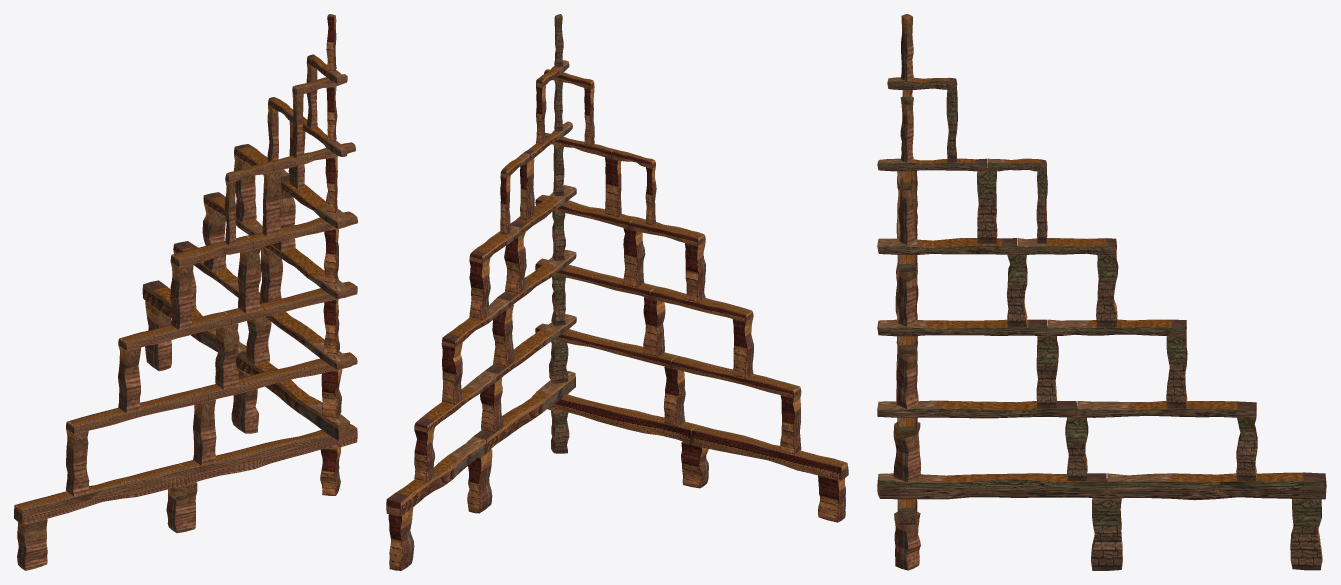
File: M7_Dynamic1Wood_2kg.fbx
3 renders of one model, left to right at view 1: azimuth 30°, elevation 25°; view 2: azimuth 150°, elevation 25°; view 3: azimuth 270°, elevation 25°, orthographic. The views are drawn at different scales.
Visible parts, largest first — view 1: D1Box7, D1Box6, D1Box8, D1Box15, D1Box16, D1Box27, D1Box26, D1Box17, D1Box20, D1Box2, D1Box11, D1Box36 (+36 smaller); view 2: D1Box7, D1Box6, D1Box9, D1Box8, D1Box15, D1Box16, D1Box27, D1Box18, D1Box5, D1Box17, D1Box4, D1Box26 (+29 smaller); view 3: D1Box9, D1Box8, D1Box17, D1Box18, D1Box25, D1Box4, D1Box5, D1Box24, D1Box30, D1Box31, D1Box21, D1Box39 (+17 smaller).
Part boxes in pixels (x1,y1,x2,y2): D1Box7: (14,464,186,524); D1Box6: (178,424,357,484); D1Box8: (238,351,349,440); D1Box15: (66,388,208,433); D1Box16: (201,352,357,401); D1Box27: (118,312,230,350); D1Box26: (223,281,357,325); D1Box17: (259,298,351,369); D1Box20: (215,323,239,389); D1Box2: (17,519,47,570); D1Box11: (66,428,89,496); D1Box36: (170,262,193,330); D1Box7: (691,425,848,480); D1Box6: (547,394,698,444); D1Box9: (386,436,486,516); D1Box8: (473,371,575,453); D1Box15: (671,356,801,397); D1Box16: (535,323,677,367); D1Box27: (650,286,753,321); D1Box18: (414,370,498,432); D1Box5: (388,507,414,570); D1Box17: (485,314,576,380); D1Box4: (467,449,492,513); D1Box26: (535,258,657,298); D1Box9: (1107,472,1326,500); D1Box8: (877,473,1106,499); D1Box17: (877,400,1076,418); D1Box18: (1077,400,1256,417); D1Box25: (877,319,1046,336); D1Box4: (1091,494,1122,570); D1Box5: (1290,499,1322,570); D1Box24: (1047,319,1186,336); D1Box30: (877,238,1016,254); D1Box31: (1017,238,1116,254); D1Box21: (1036,330,1058,408); D1Box39: (977,168,997,243).
Size of what is drawn, in the model's own units: 45 by 61 by 45.
